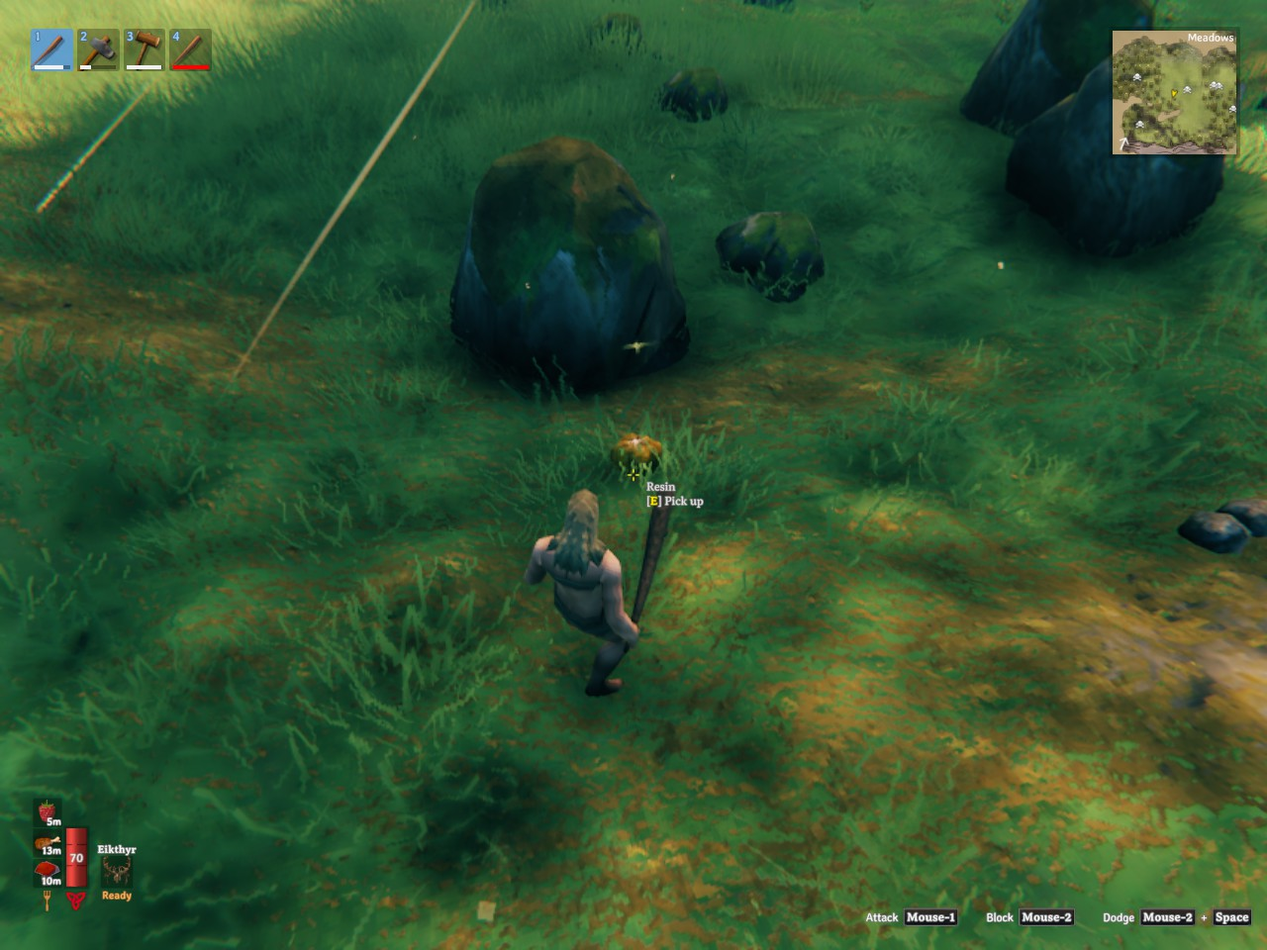Club: (630, 491, 674, 625)
Food Indicator: (36, 797, 63, 891)
Health Bar: (63, 820, 90, 891)
Hotbar: (25, 21, 398, 78)
Resin: (612, 432, 661, 474)
Stone: (1178, 512, 1249, 553), (1218, 500, 1266, 536)
